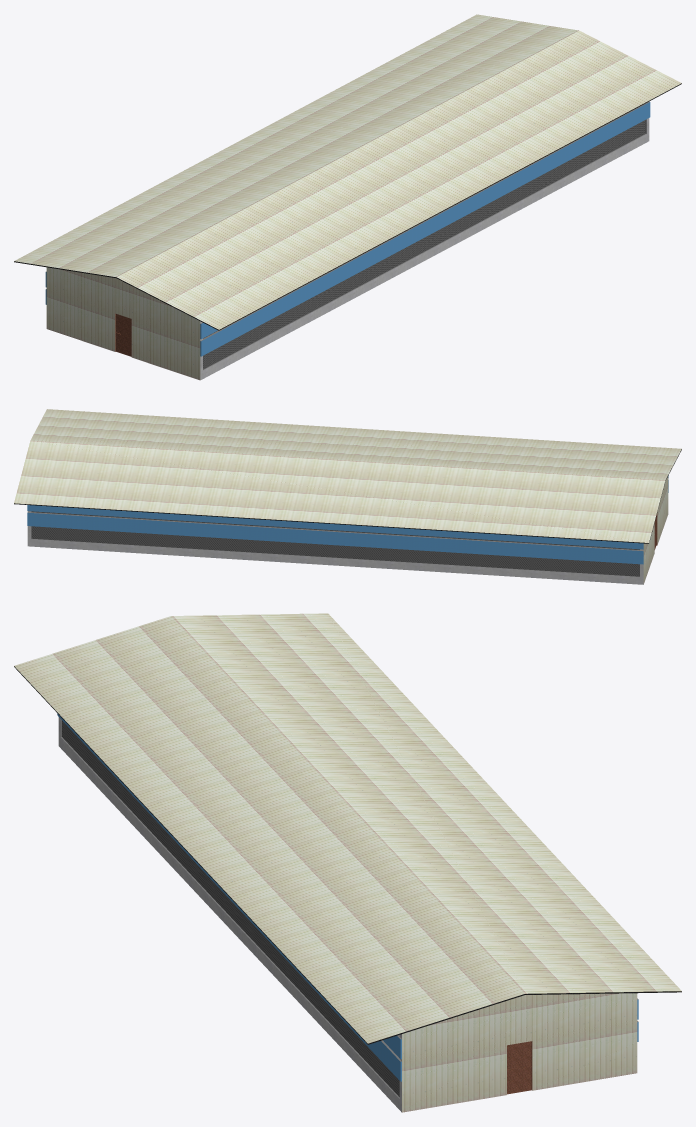
3 views of the same model, one above another, from view 1: azimuth 30°, elevation 25°; view 2: azimuth 150°, elevation 25°; view 3: azimuth 270°, elevation 25° (orthographic). The views are drawn at different scales.
Parts seen in each view (by area): view 1: H棟; view 2: H棟; view 3: H棟.
Part boxes in pixels (x1,y1,x2,y2): H棟: [14, 14, 681, 380]; H棟: [14, 409, 681, 584]; H棟: [14, 613, 681, 1112].
Size of the model in its own units: 37.1 by 4.21 by 24.34.
7 materials, 6 textured.
